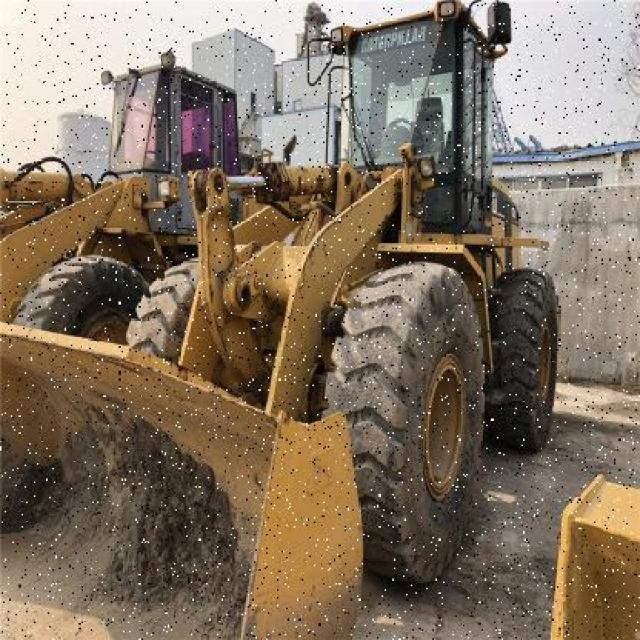buldozerpayloadergrader: (0, 18, 572, 639), (19, 38, 259, 376)
